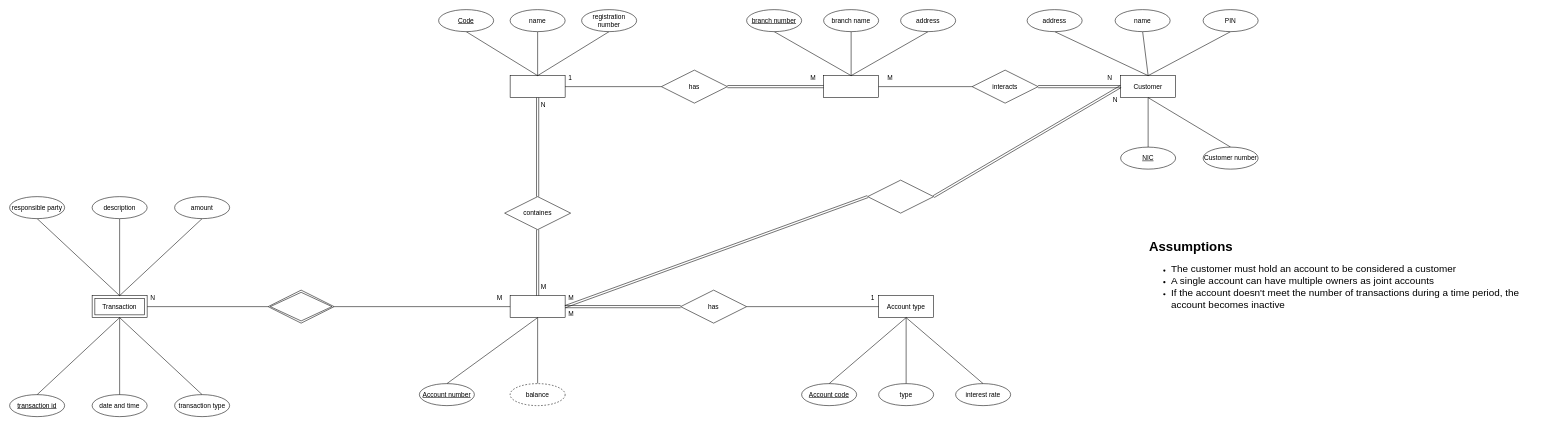
Some shapes in this 1554 by 426 pixel diagram are drawn without their labels. Here are the shapes that lost their labels. From the top down, the centre of each, then its label:
the point at 537,86: Bank
the point at 851,86: Branch
the point at 900,196: holds
the point at 301,306: performs
the point at 537,306: Account
